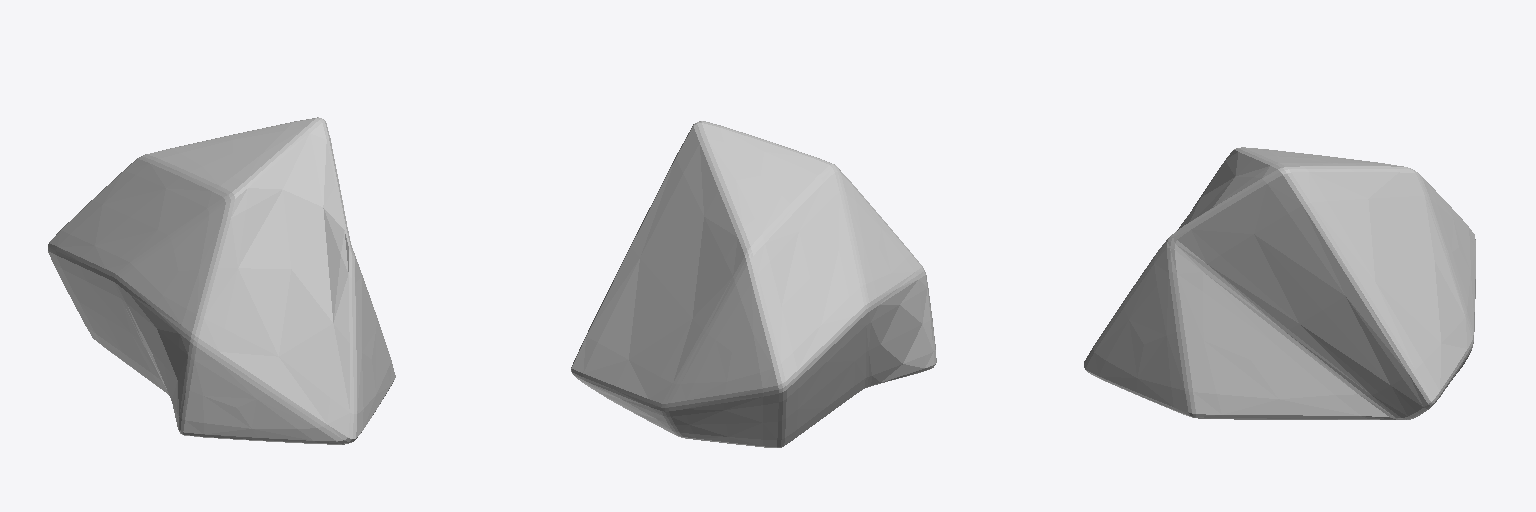
File: rock-02.obj
3 views of the same model, side by side, from view 1: azimuth 30°, elevation 25°; view 2: azimuth 150°, elevation 25°; view 3: azimuth 270°, elevation 25° (orthographic).
Parts seen in each view (by area): view 1: rock_02; view 2: rock_02; view 3: rock_02.
Part boxes in pixels (x1,y1,x2,y2): rock_02: (48,117,395,444); rock_02: (571,121,936,447); rock_02: (1084,147,1475,419).
Size of the model in its own units: 0.7572 by 0.7123 by 1.06.